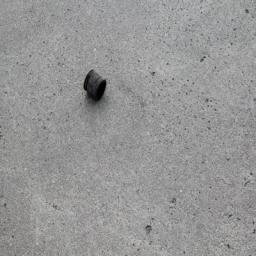FOD: (78, 68, 112, 102)
